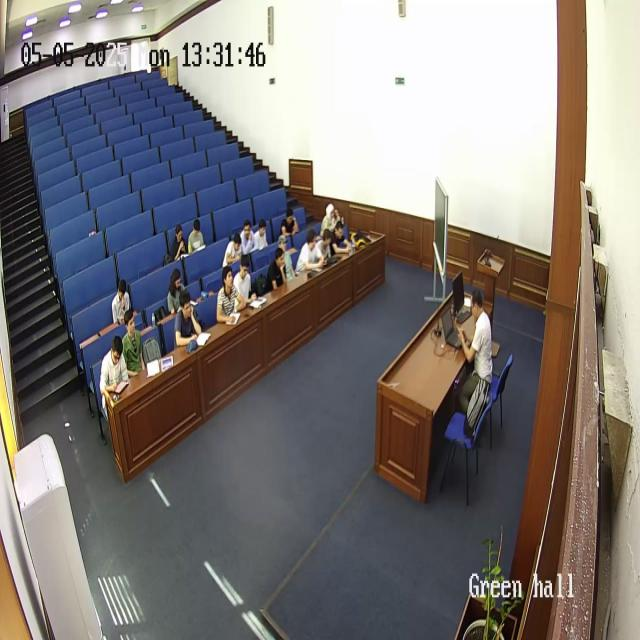person: (456, 289, 494, 420), (99, 336, 130, 417), (174, 289, 204, 348), (122, 309, 148, 376), (215, 265, 244, 323), (295, 228, 325, 274), (232, 255, 258, 305), (266, 244, 288, 292), (277, 232, 297, 282), (112, 278, 132, 327), (166, 270, 186, 316), (330, 215, 354, 253), (316, 223, 336, 262), (222, 230, 242, 267), (320, 202, 340, 236), (171, 223, 187, 262), (188, 218, 205, 253), (240, 220, 256, 255), (280, 207, 298, 238), (253, 218, 269, 250)
